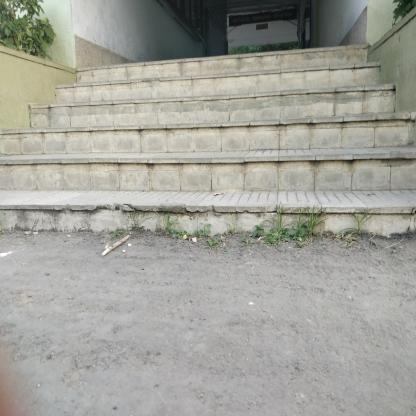stairs: (59, 80, 303, 249)
